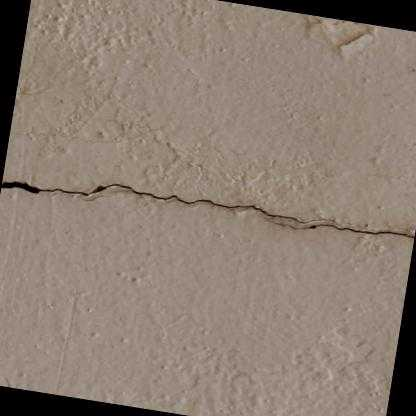crack: (1, 180, 334, 223), (270, 220, 414, 237)
